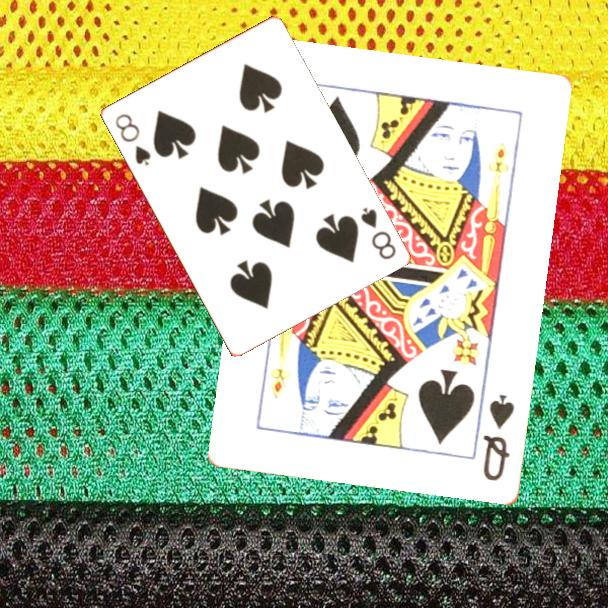s08: (111, 110, 153, 168), (357, 203, 398, 262)
s12: (480, 391, 518, 484)
